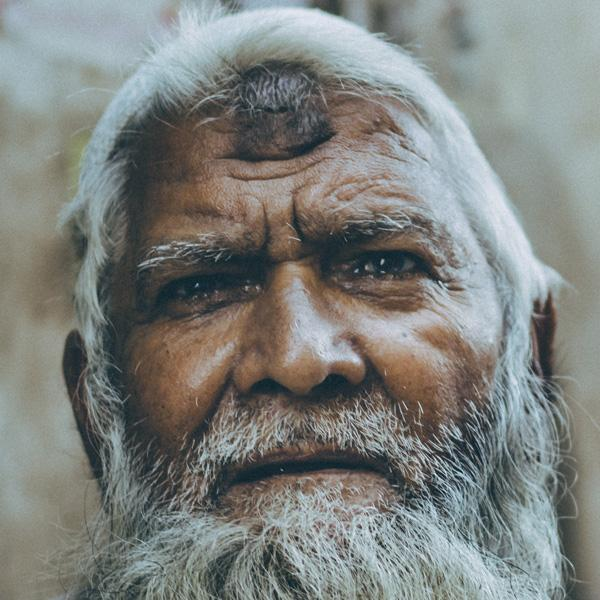Eyes: (149, 257, 259, 320), (331, 242, 444, 294)
